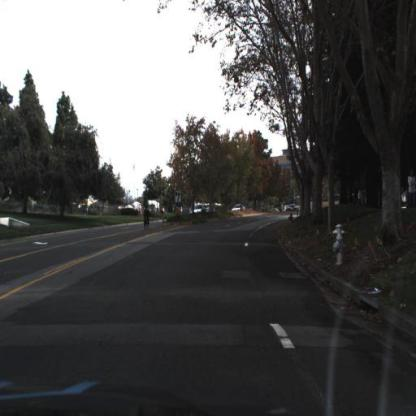biker: (141, 192, 156, 234), (143, 197, 151, 228)
